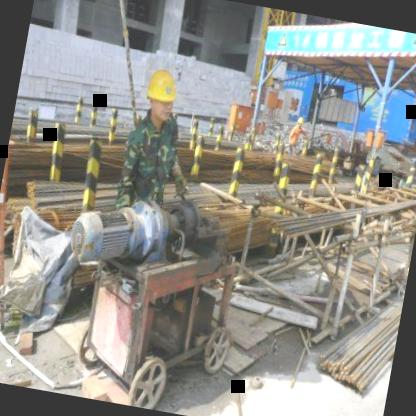helmet: (138, 61, 183, 129)
